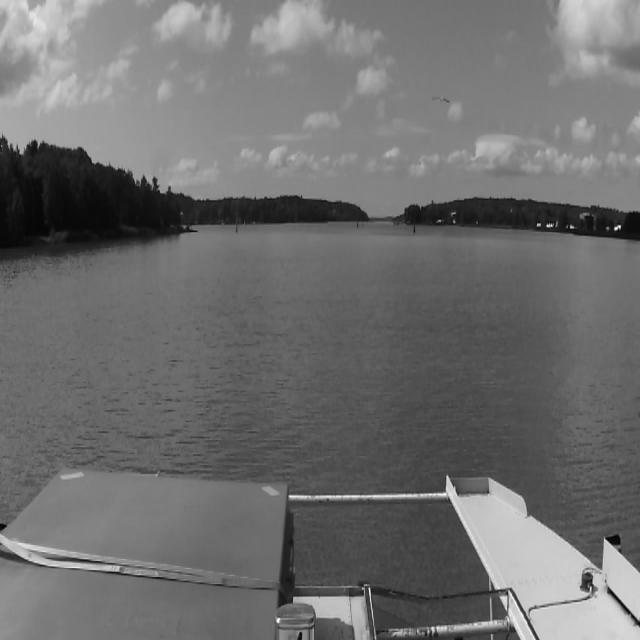buoy: (411, 220, 419, 237), (237, 220, 240, 236)
